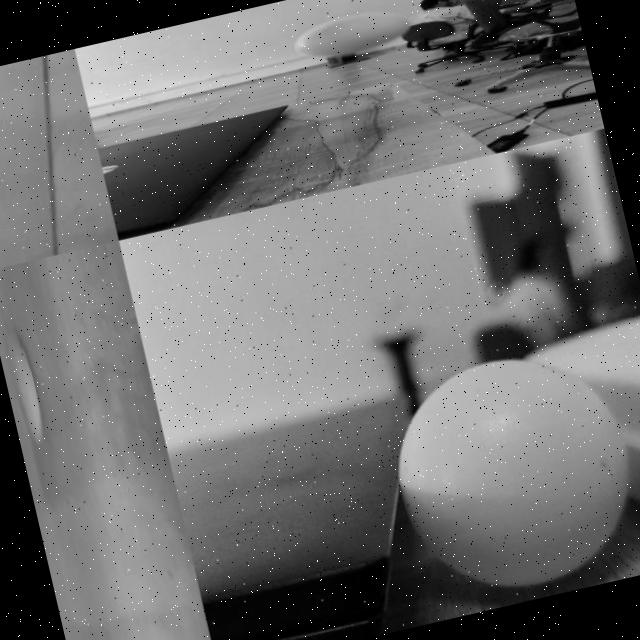ping-pong-ball: (376, 335, 640, 610), (292, 1, 411, 64), (2, 329, 48, 444)
